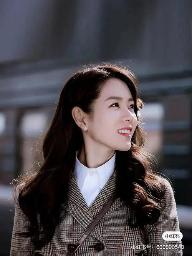face: (93, 82, 135, 150)
